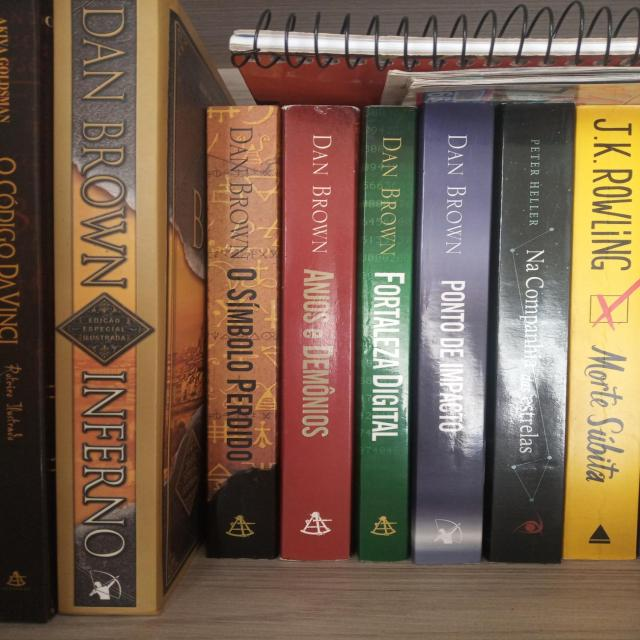book: (56, 4, 148, 612), (574, 107, 634, 562), (497, 107, 557, 561), (287, 112, 346, 558), (210, 111, 267, 557), (422, 107, 476, 564), (363, 110, 403, 561)
